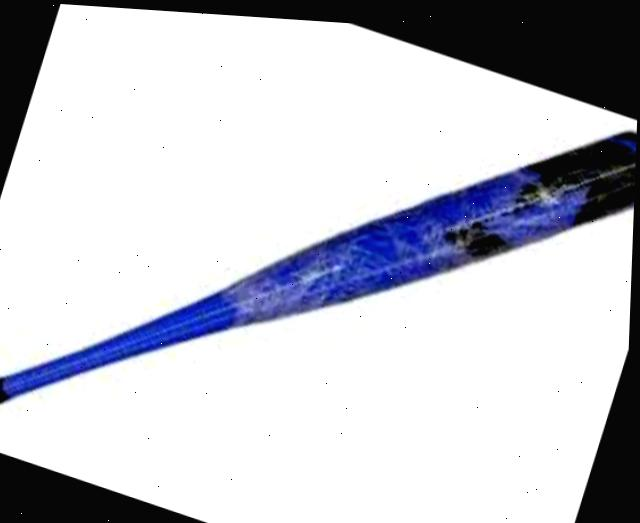baseball bat: (0, 126, 637, 410)
